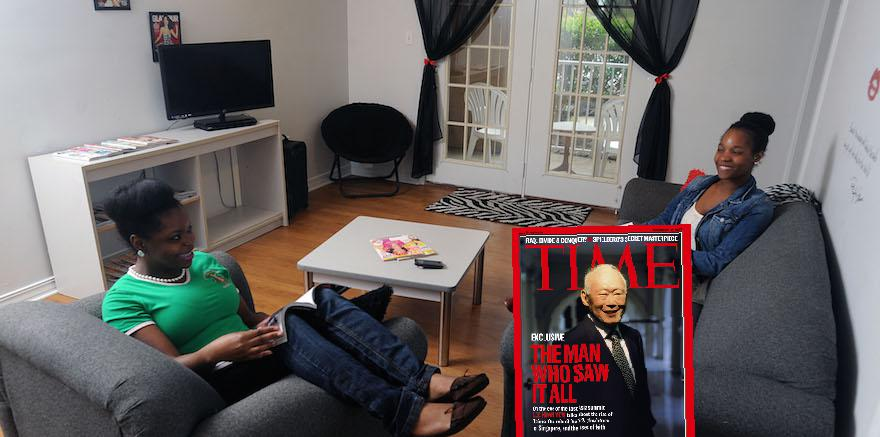times: (512, 223, 694, 437)
